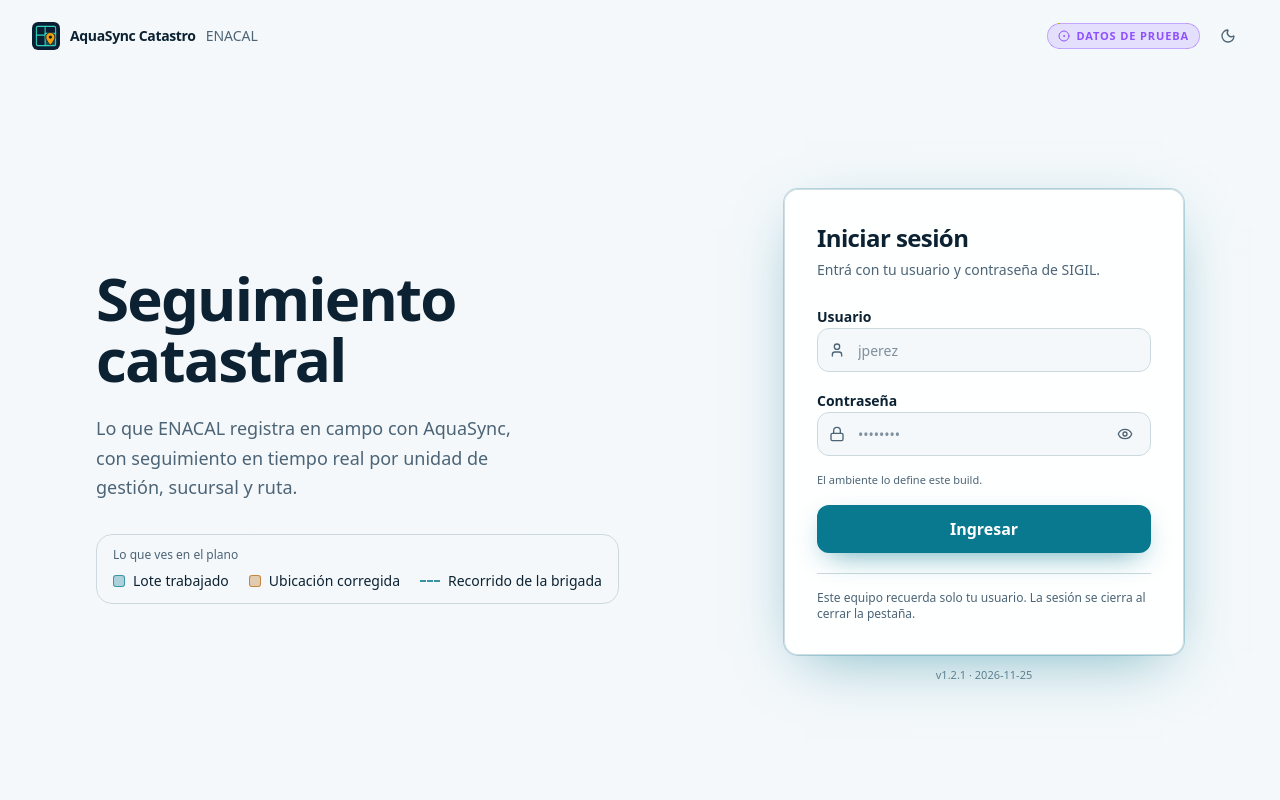
LoginPage › shows the API error and keeps the user on the form
Type "jmedina" into the field labelled "Usuario". click: (984, 350)
box: [817, 328, 1151, 372]
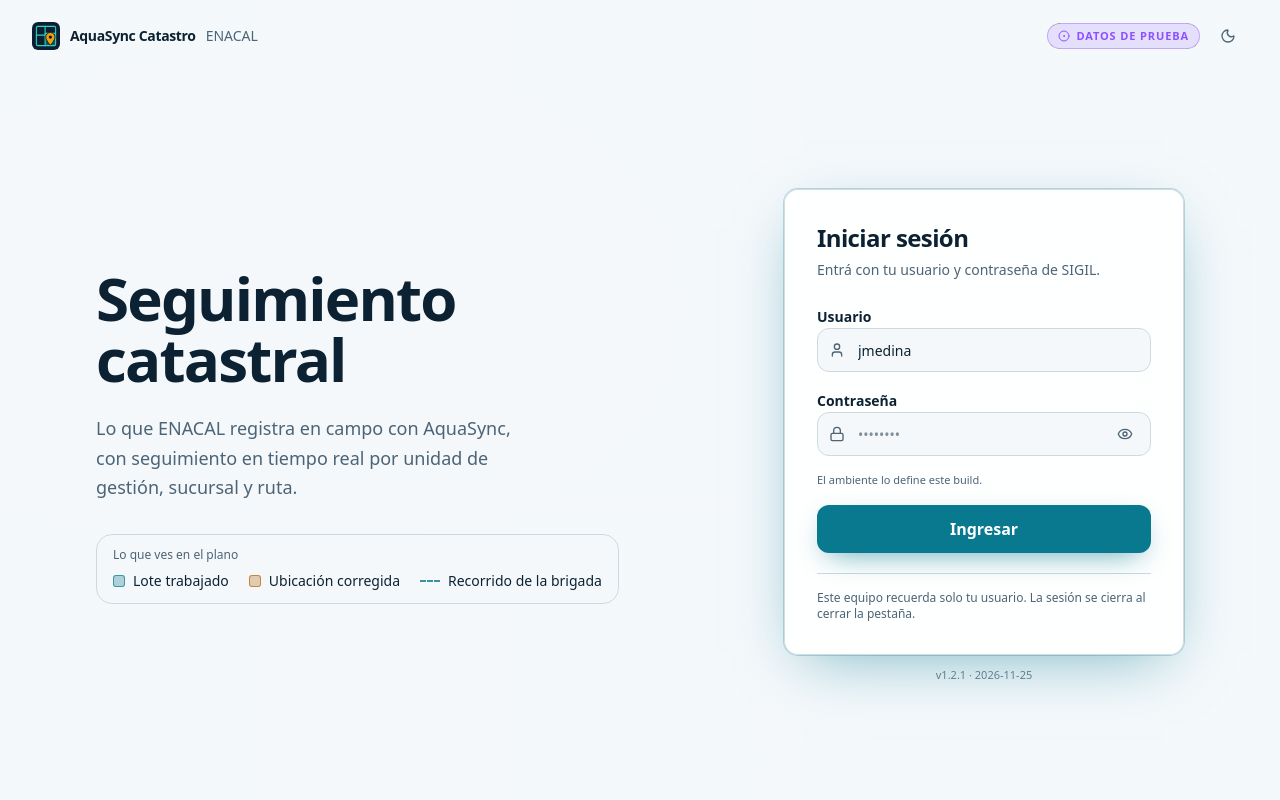
Type "mala" into the password field labelled "Contraseña". click: (984, 434)
box: [817, 412, 1151, 456]
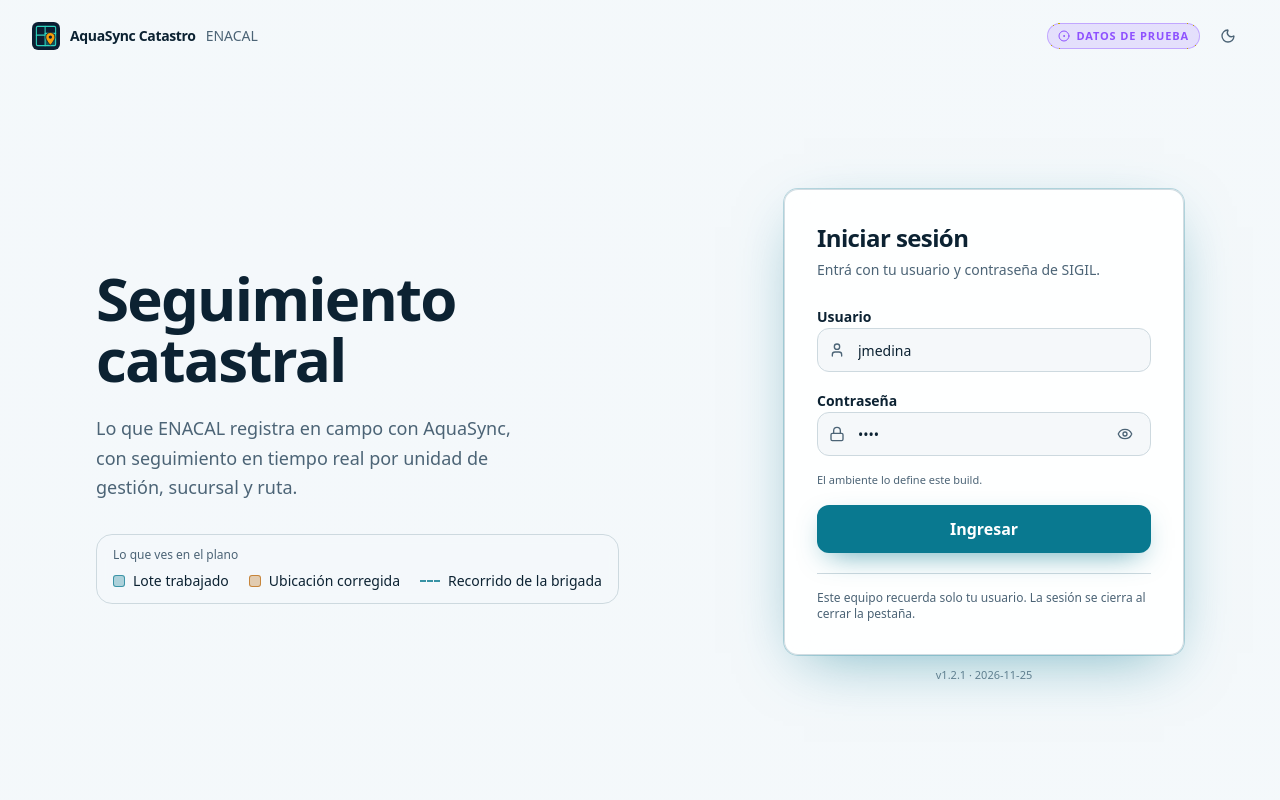
Click the button "Ingresar". click: (984, 528)
box: [817, 504, 1151, 552]
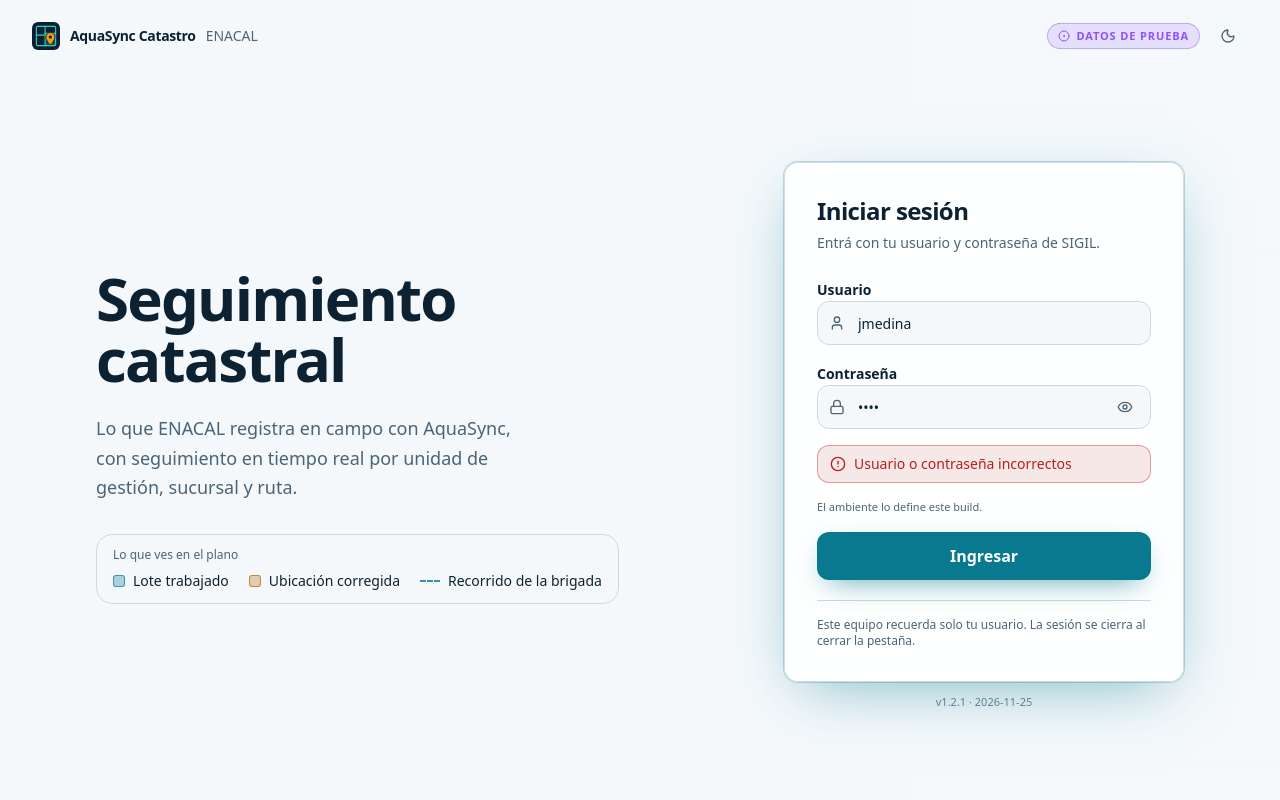
Result: the message reads "Usuario o contraseña incorrectos" at [854, 454, 1072, 473]
